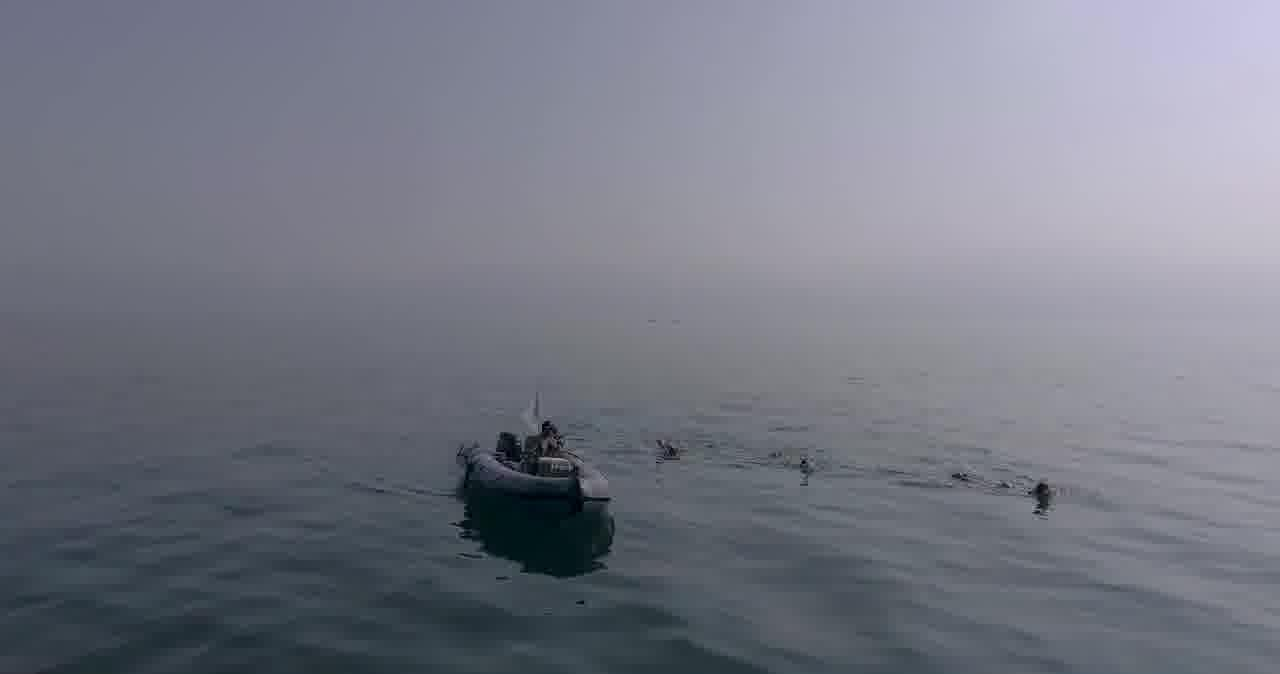human: (778, 441, 846, 502), (1006, 469, 1065, 517), (626, 428, 681, 474)
